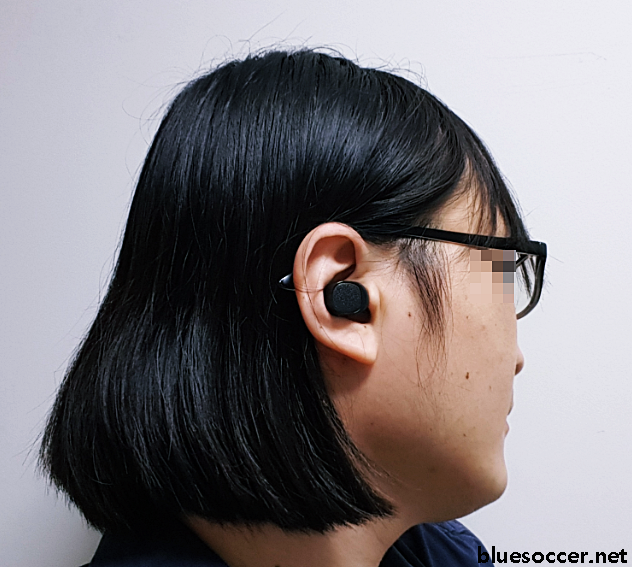earphone: (292, 220, 383, 363)
